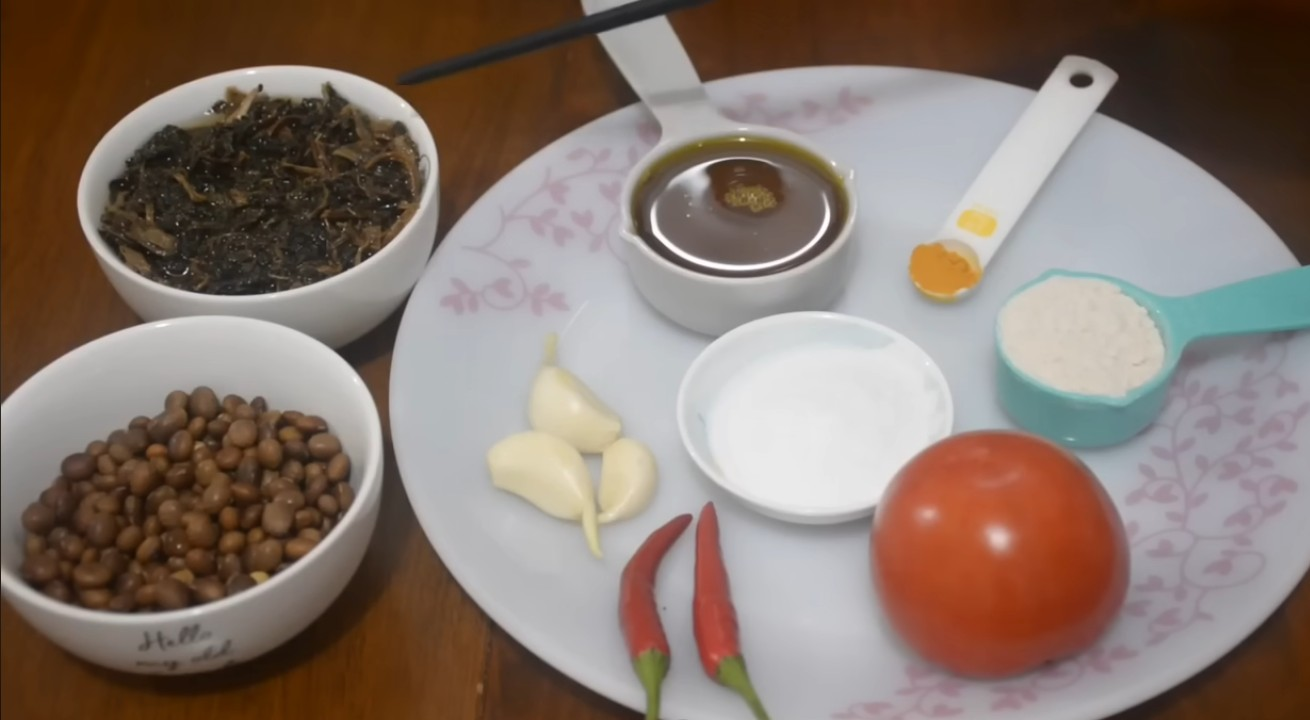gundruk: (120, 103, 383, 282)
